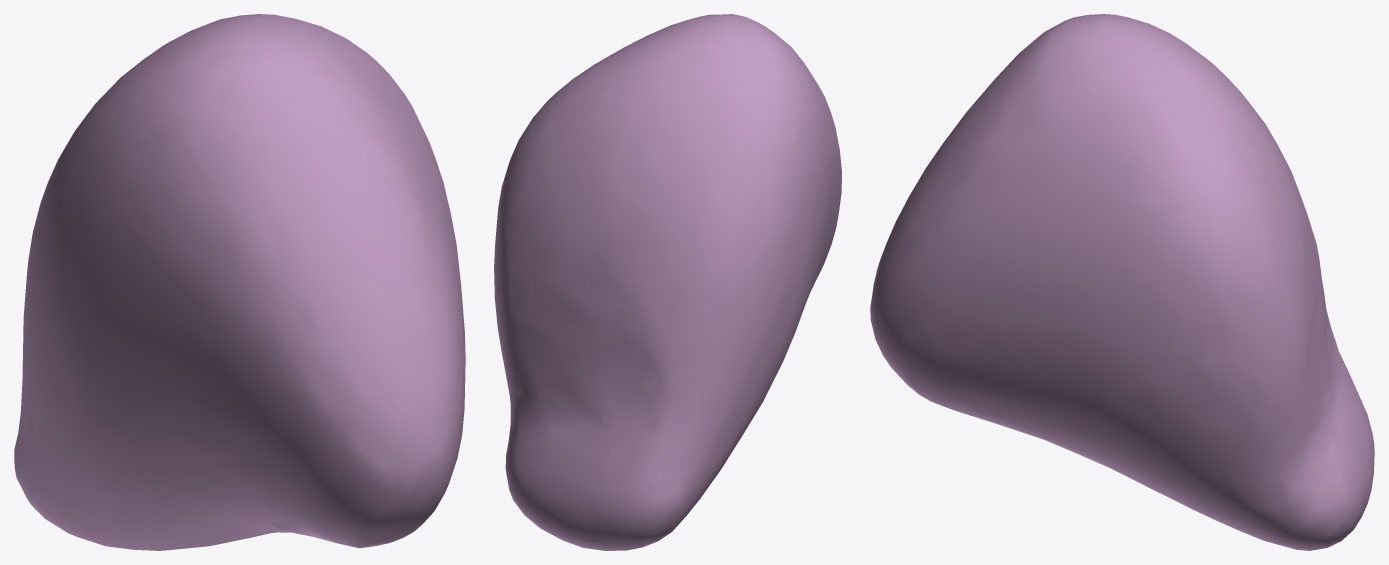
The picture shows the model from 3 angles, left to right: view 1: azimuth 30°, elevation 25°; view 2: azimuth 150°, elevation 25°; view 3: azimuth 270°, elevation 25°; orthographic projection. The views are drawn at different scales.
Parts seen in each view (by area): view 1: 山坡; view 2: 山坡; view 3: 山坡.
Part boxes in pixels (bbox=[...]): 山坡: bbox=[14, 14, 465, 550]; 山坡: bbox=[494, 14, 841, 550]; 山坡: bbox=[870, 14, 1374, 550].
Bounding box in the file's own units: 0.0179 × 0.0281 × 0.026.
